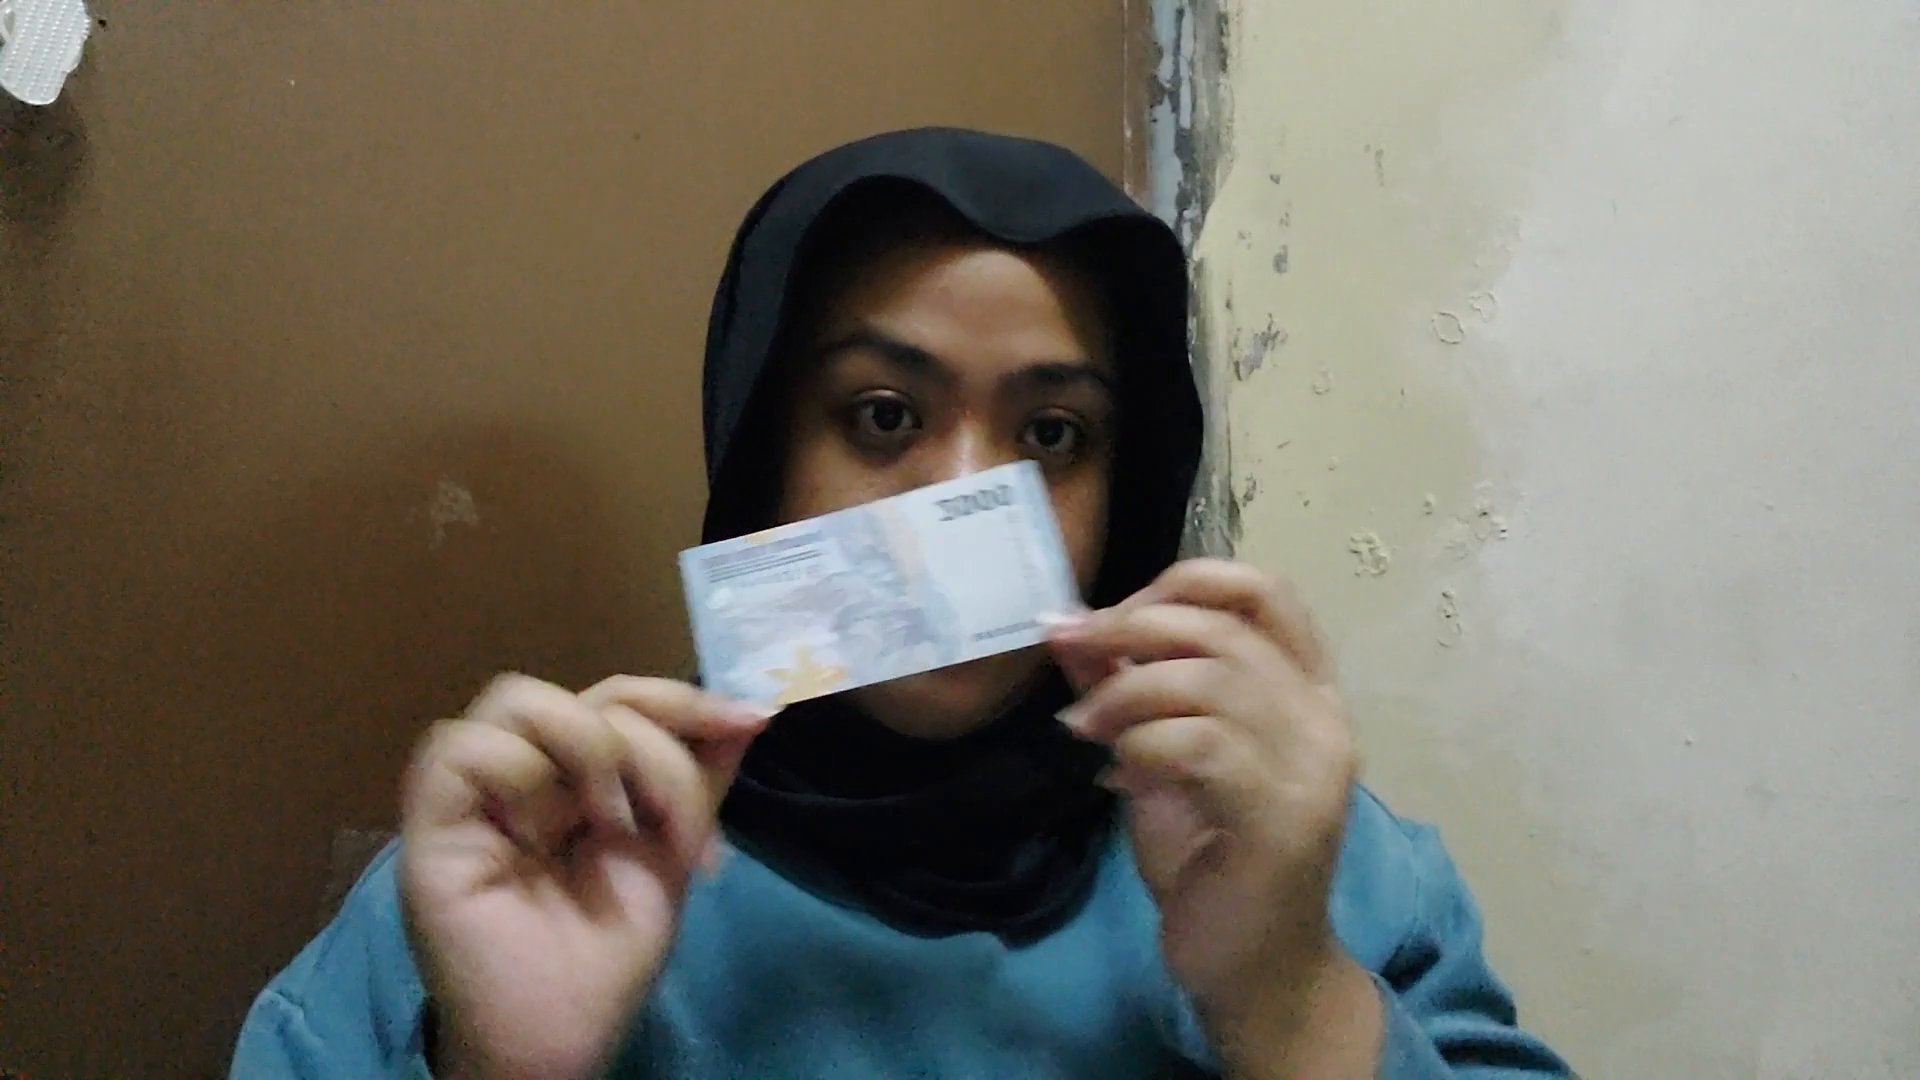2k: (683, 551, 1054, 729)
